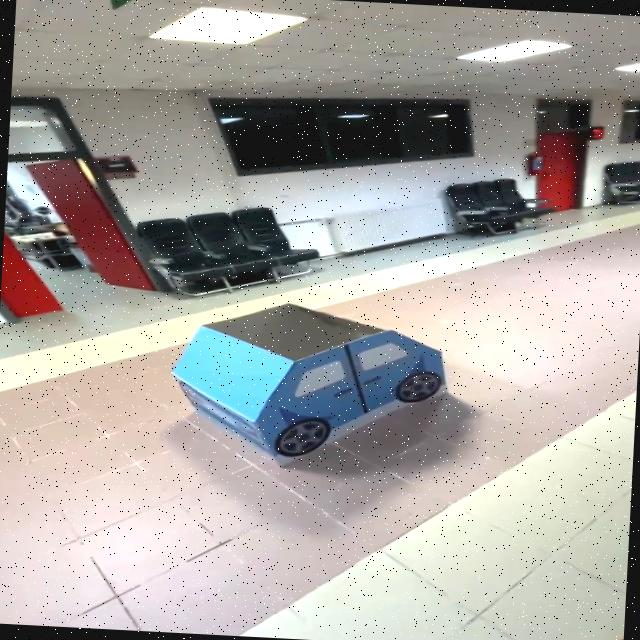blue_car: (138, 290, 486, 481)
